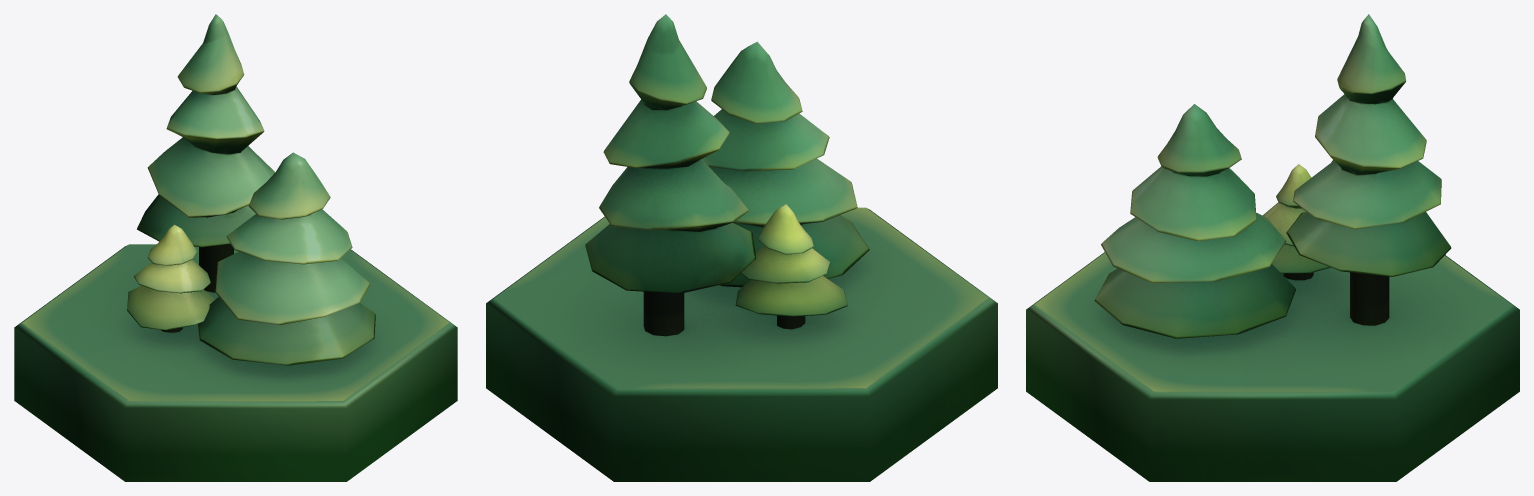
The model's file is tress2.fbx.
3 renders of one model, left to right at view 1: azimuth 30°, elevation 25°; view 2: azimuth 150°, elevation 25°; view 3: azimuth 270°, elevation 25°, orthographic. The views are drawn at different scales.
Parts seen in each view (by area): view 1: swamp1; view 2: swamp1; view 3: swamp1.
Part boxes in pixels (<box>): swamp1: <box>14,14,457,481</box>; swamp1: <box>486,14,997,481</box>; swamp1: <box>1026,14,1519,481</box>.
Bounding box in the file's own units: 83.21 × 83.71 × 96.08.
Materials: 2 (2 with a texture image).
